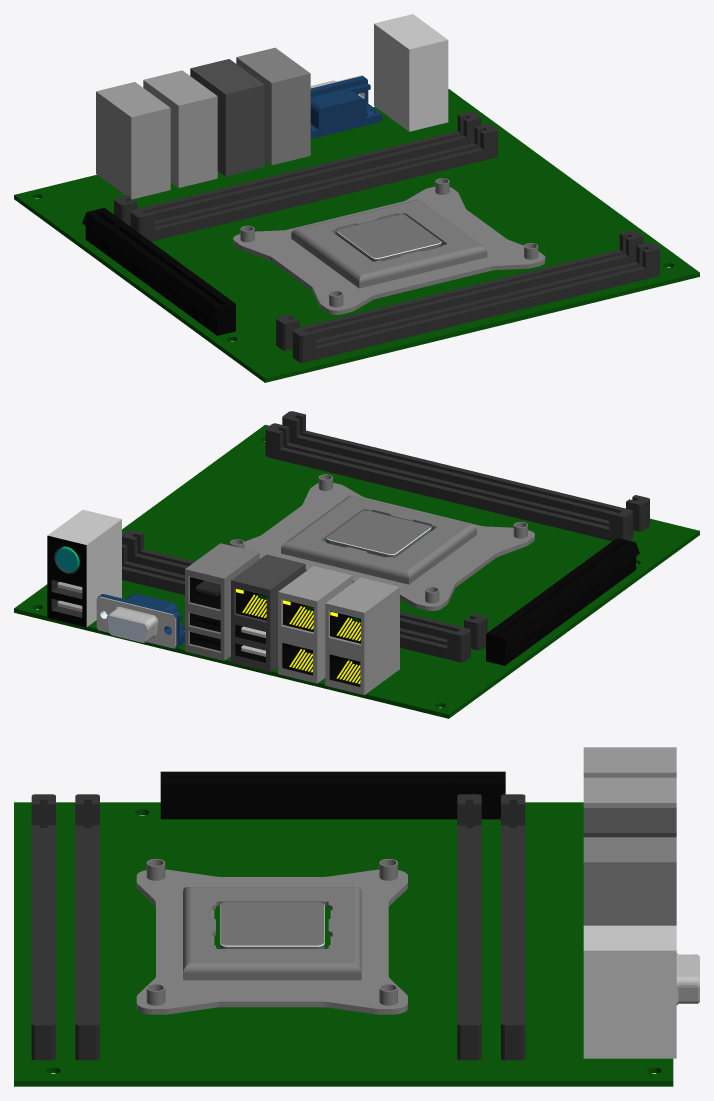
3 renders of one model, top to bottom at view 1: azimuth 30°, elevation 25°; view 2: azimuth 150°, elevation 25°; view 3: azimuth 270°, elevation 25°, orthographic. The views are drawn at different scales.
Parts seen in each view (by area): view 1: MotherboardServer_1.0_2; view 2: MotherboardServer_1.0_2; view 3: MotherboardServer_1.0_2.
Boxes of the visible parts, <box> form: MotherboardServer_1.0_2: <box>14,14,699,382</box>; MotherboardServer_1.0_2: <box>14,411,699,718</box>; MotherboardServer_1.0_2: <box>14,747,699,1086</box>.
Bounding box in the file's own units: 0.17 × 0.0346 × 0.1768.
